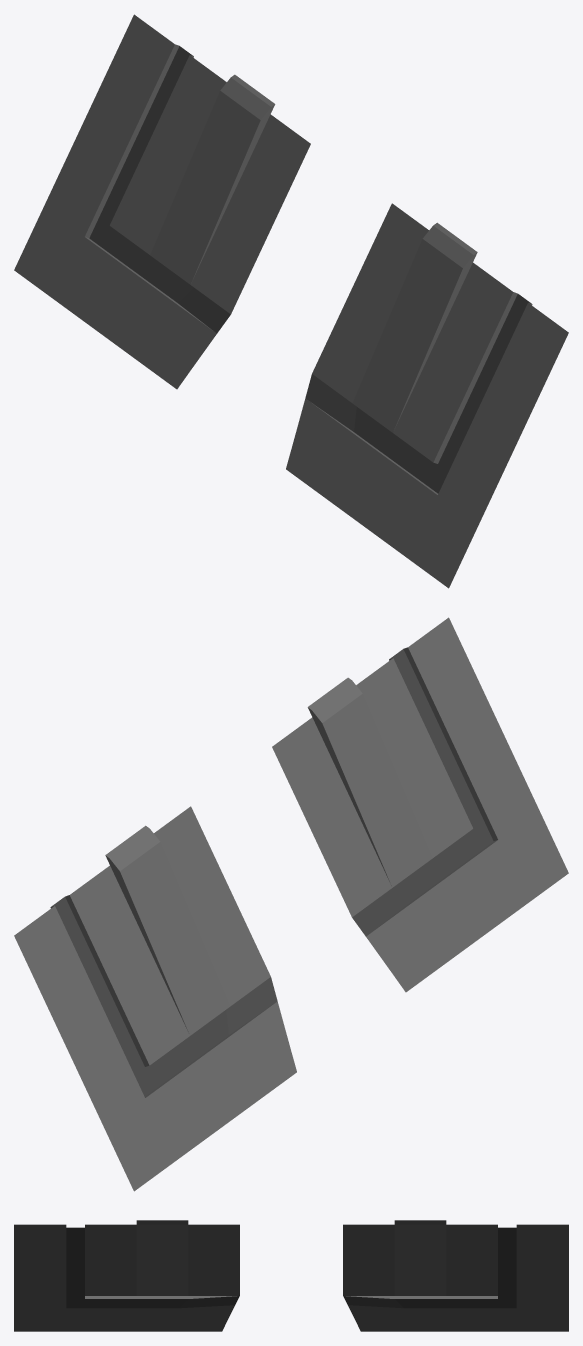
The model's file is Storage_Bay_Door_02.fbx.
The picture shows the model from 3 angles, top to bottom: view 1: azimuth 30°, elevation 25°; view 2: azimuth 150°, elevation 25°; view 3: azimuth 270°, elevation 25°; orthographic projection. The views are drawn at different scales.
Visible parts, largest first — view 1: Storage_Bay_Door_02; view 2: Storage_Bay_Door_02; view 3: Storage_Bay_Door_02.
Part boxes in pixels (box(x1,y1,x2,y2)): Storage_Bay_Door_02: box(14, 14, 568, 588); Storage_Bay_Door_02: box(14, 617, 568, 1191); Storage_Bay_Door_02: box(14, 1220, 568, 1331).
Bounding box in the file's own units: 6.63 × 11.96 × 40.
